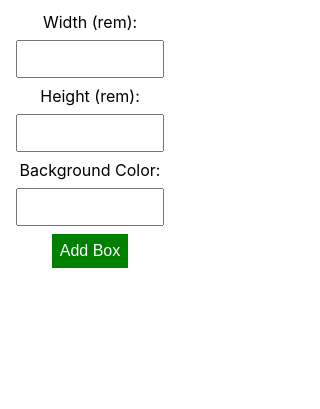
it: can add a new box
The image size is (320, 409).
Updated to match the exact label text
Type "5" into the number field labelled "Width (rem):" at (90, 59), box [16,40,164,78]
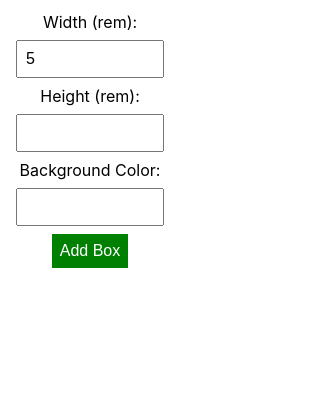
Type "6" into the number field labelled "Height (rem):" at (90, 133), box [16,114,164,152]
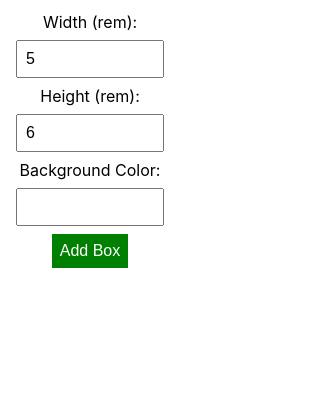
Type "red" into the field labelled "Background Color:" at (90, 207), box [16,188,164,226]
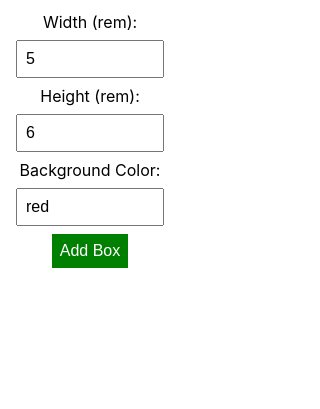
Click the button "Add Box" at (90, 251), box [52,234,128,268]
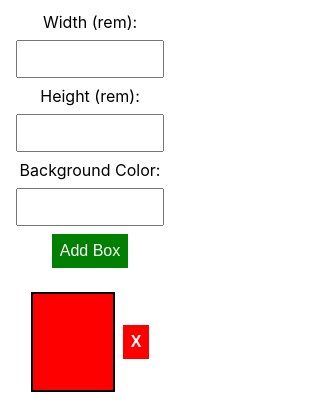
Expected: the button "X" is shown, [123,325,149,359]
